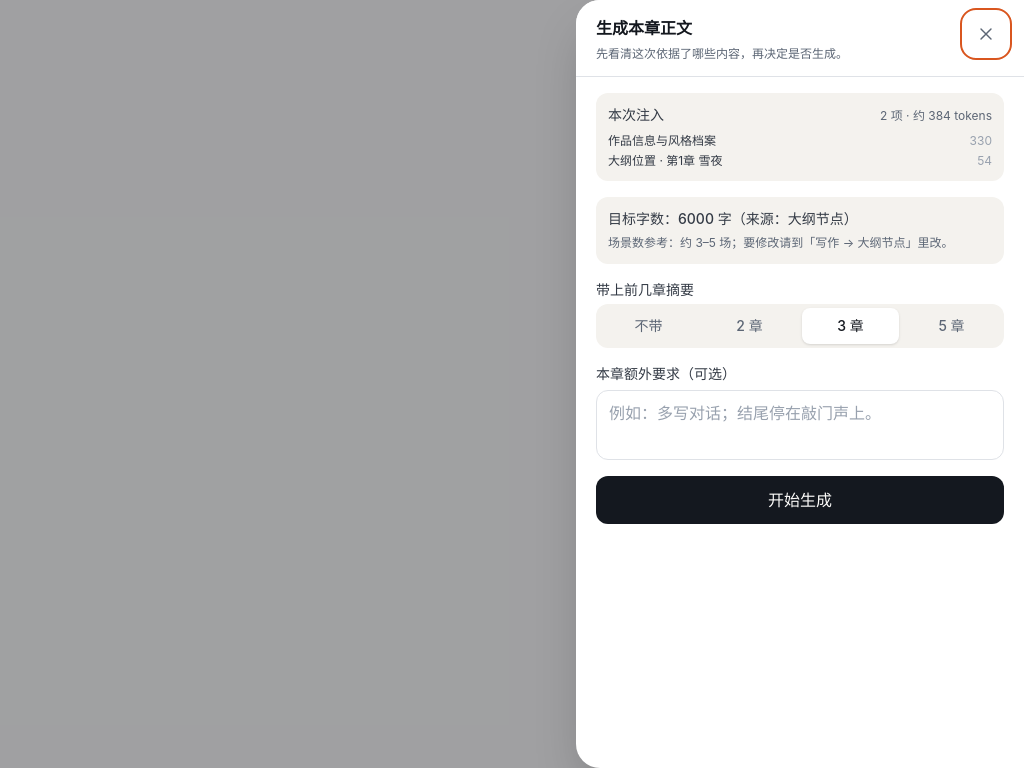
400 max_tokens 回退（design §8.2） › 400 重试后仍失败：只重试一次，最终显示错误
The image size is (1024, 768).
Step 1. Click the button "开始生成" → (800, 500), box top-left (596, 476), bottom-right (1004, 524)
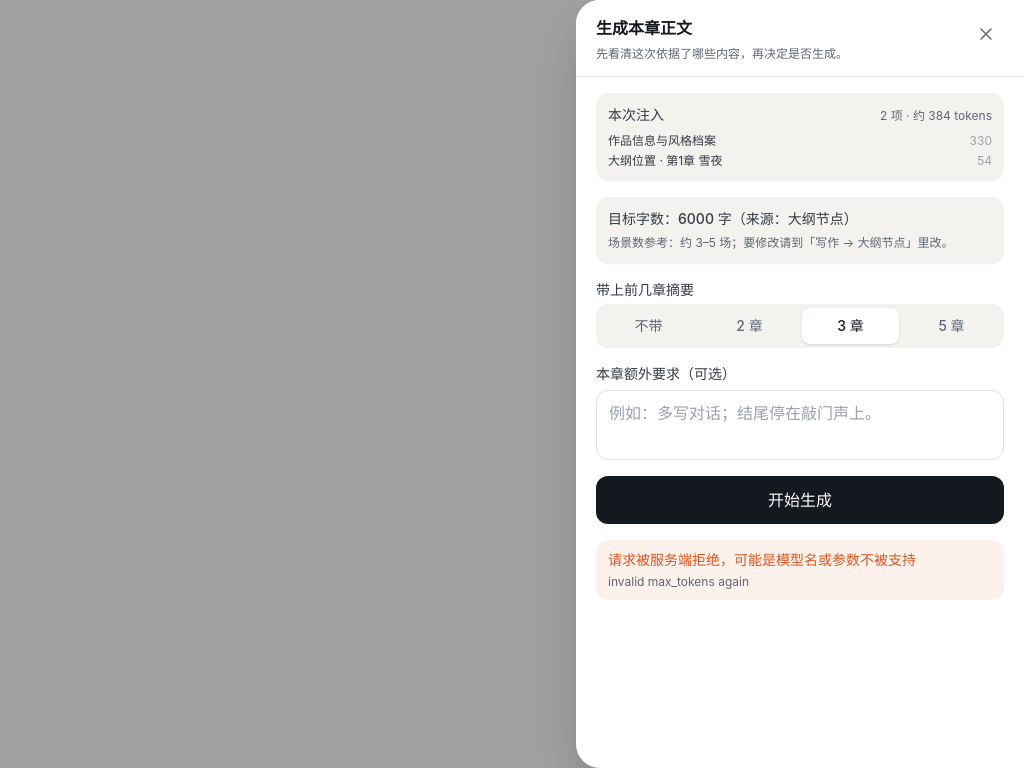
Check: the message "请求被服务端拒绝，可能是模型名或参数不被支持 invalid max_tokens again" is shown, box top-left (596, 540), bottom-right (1004, 600)
